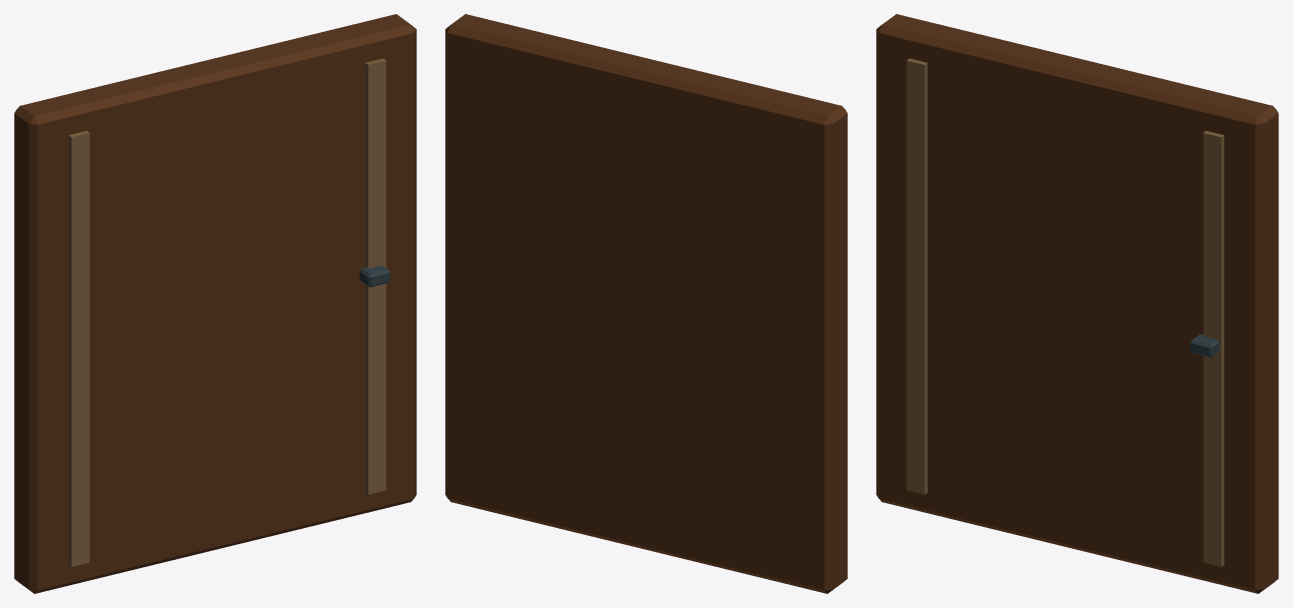
The model's file is door.glb.
The picture shows the model from 3 angles, left to right: view 1: azimuth 30°, elevation 25°; view 2: azimuth 150°, elevation 25°; view 3: azimuth 330°, elevation 25°; orthographic projection.
Parts seen in each view (by area): view 1: DD_Door_Leaf, DD_Door_Rail, DD_Door_Rail.001, DD_Door_Handle; view 2: DD_Door_Leaf; view 3: DD_Door_Leaf, DD_Door_Rail, DD_Door_Rail.001.
Part boxes in pixels (x1,y1,x2,y2): DD_Door_Leaf: (14, 14, 416, 593); DD_Door_Rail: (68, 131, 89, 566); DD_Door_Rail.001: (365, 58, 386, 494); DD_Door_Handle: (359, 265, 390, 287); DD_Door_Leaf: (445, 14, 847, 593); DD_Door_Leaf: (876, 14, 1278, 593); DD_Door_Rail: (906, 58, 927, 494); DD_Door_Rail.001: (1203, 131, 1224, 566).
Bounding box in the file's own units: 1.7 × 2 × 0.24.
